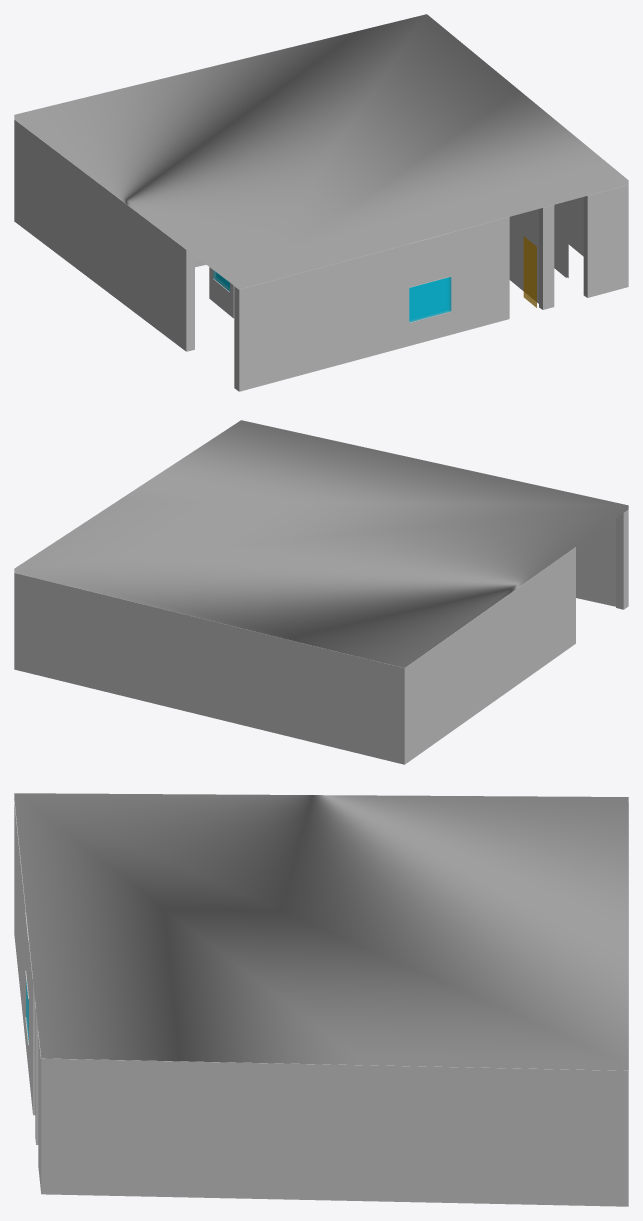
The model's file is 56577158-0e6f-48a8-b066-b2f68aadf5bf.glb.
The picture shows the model from 3 angles, top to bottom: view 1: azimuth 30°, elevation 25°; view 2: azimuth 150°, elevation 25°; view 3: azimuth 270°, elevation 25°; orthographic projection. The views are drawn at different scales.
Visible parts, largest first — view 1: roof, walls, windows, doors; view 2: roof, walls; view 3: roof, walls.
Part boxes in pixels (x1,y1,x2,y2): roof: (14,14,628,289); walls: (14,119,628,391); windows: (213,270,451,322); doors: (523,236,536,307); roof: (14,420,628,667); walls: (14,510,628,764); roof: (14,793,628,1070); walls: (14,799,628,1206).
Size of the model in its own units: 15.01 by 3.65 by 14.34.
